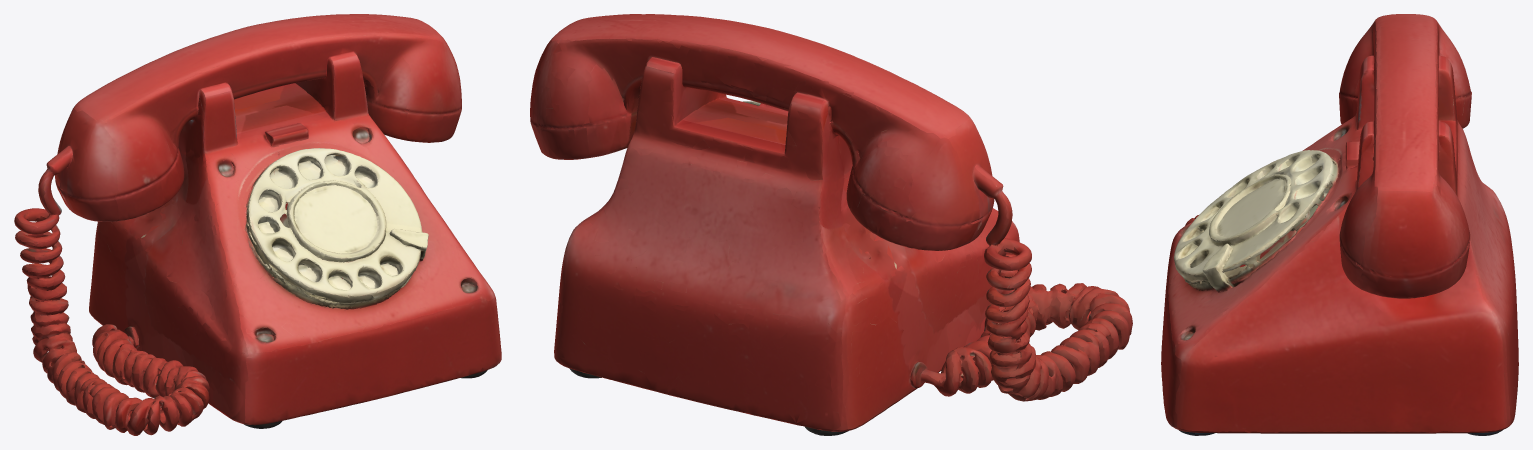
Rendered from toy-phone.glb.
3 renders of one model, left to right at view 1: azimuth 30°, elevation 25°; view 2: azimuth 150°, elevation 25°; view 3: azimuth 270°, elevation 25°, orthographic. The views are drawn at different scales.
Visible parts, largest first — view 1: geometry_0; view 2: geometry_0; view 3: geometry_0.
Part boxes in pixels (bbox=[...]): geometry_0: bbox=[14, 14, 501, 435]; geometry_0: bbox=[530, 14, 1132, 435]; geometry_0: bbox=[1161, 14, 1518, 435].
Bounding box in the file's own units: 0.25 × 0.1614 × 0.17.
1 material, 1 textured.
